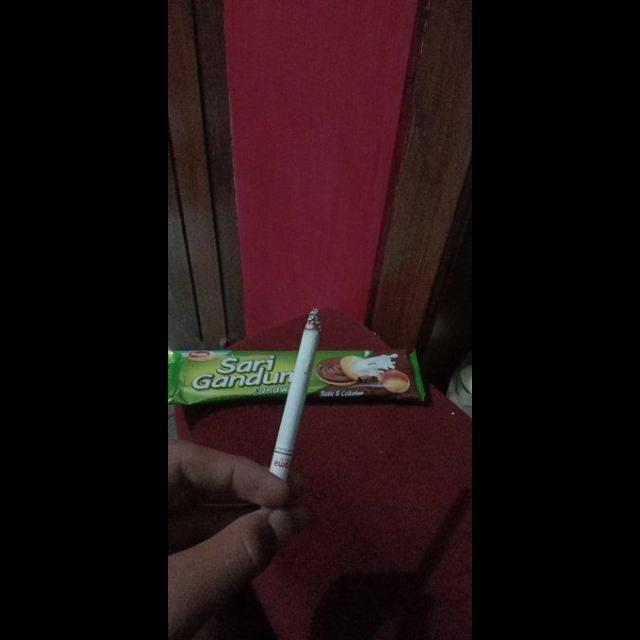rokok: (258, 305, 328, 487)
